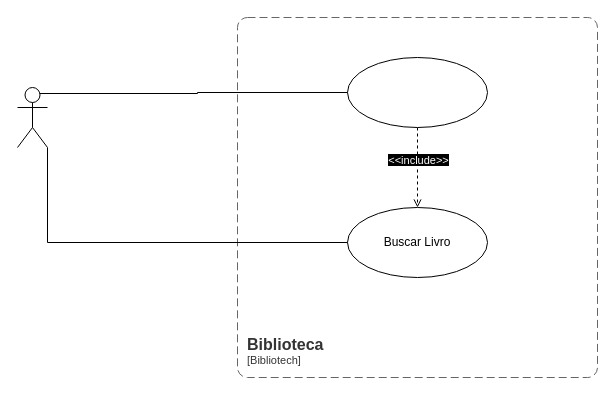
The diagram is 615 pixels wide and 395 high, and some of its shapes have lost their labels. The centre of each missing label's shape, as x and y in pixels:
"Emprestar Livro" goes at point (417, 92).
"Leitor" goes at point (32, 117).
